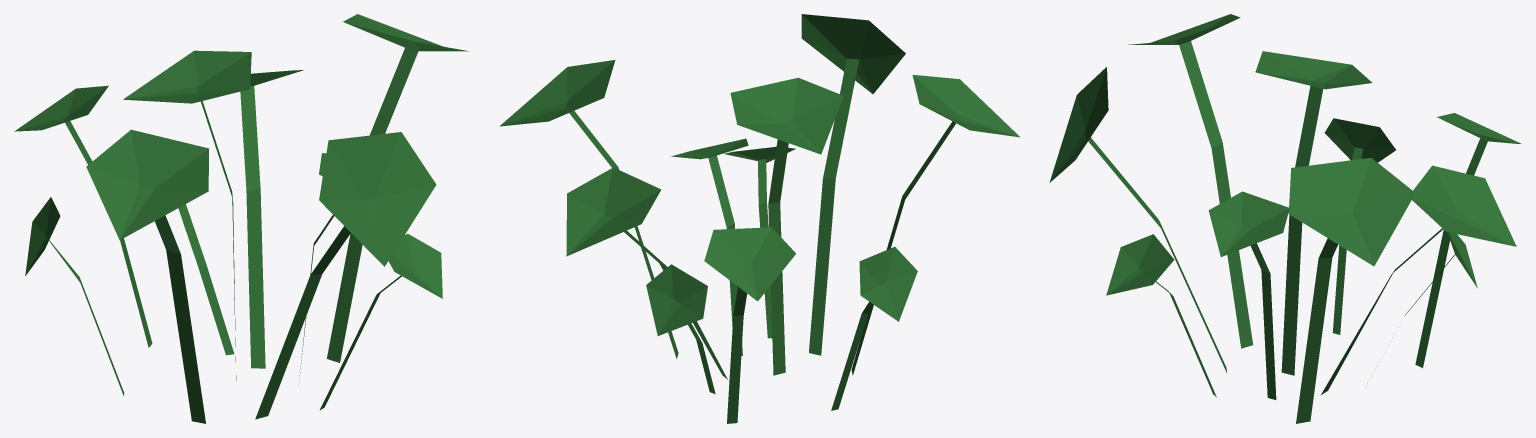
File: furniture-plant-pilea.glb
3 renders of one model, left to right at view 1: azimuth 30°, elevation 25°; view 2: azimuth 150°, elevation 25°; view 3: azimuth 270°, elevation 25°, orthographic. The views are drawn at different scales.
Parts seen in each view (by area): view 1: plant-pilea; view 2: plant-pilea; view 3: plant-pilea.
Part boxes in pixels (<box>): plant-pilea: <box>14,14,468,423</box>; plant-pilea: <box>499,14,1019,423</box>; plant-pilea: <box>1049,14,1520,423</box>.
Size of the model in its own units: 0.174 by 0.1174 by 0.1642.
